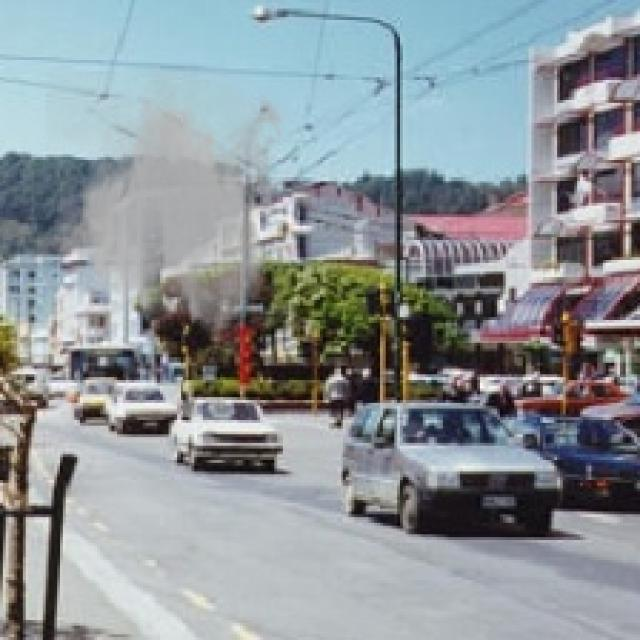smoke: (46, 72, 291, 337)
